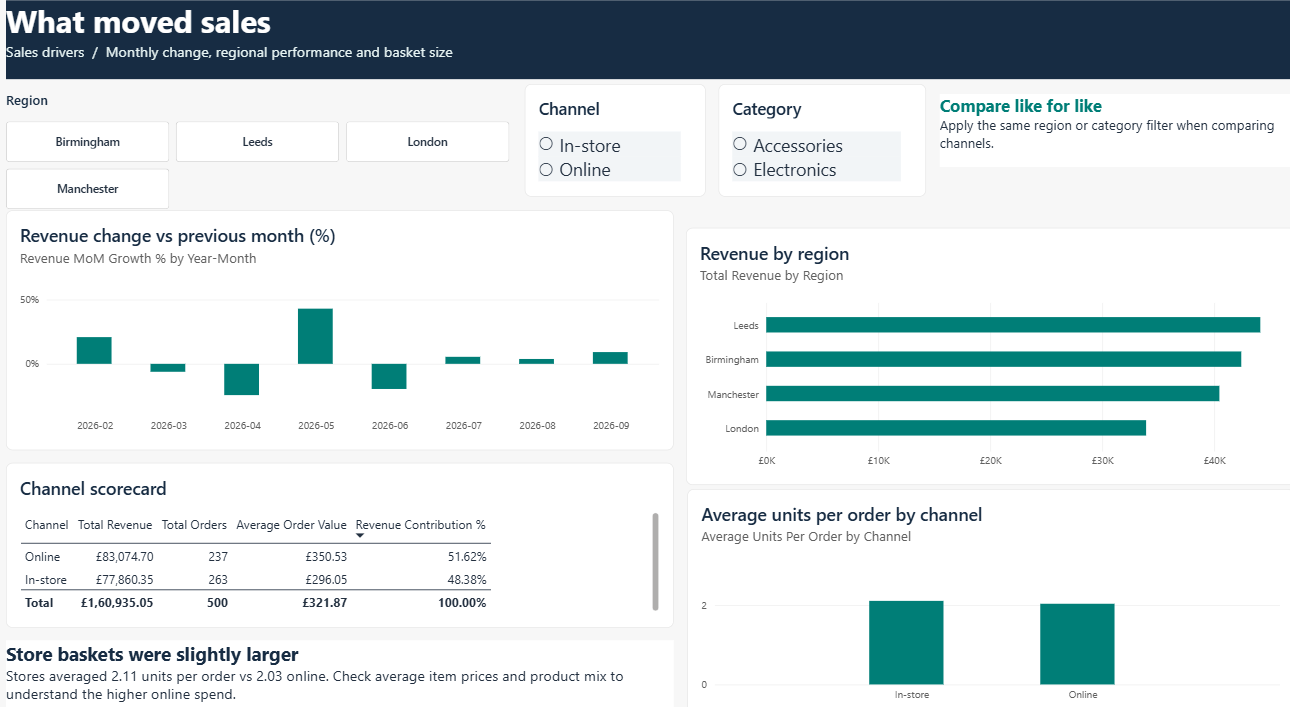

Layout of this report page (visuals, bound fields, positions):
{"tool":"powerbi","page":{"name":"Sales Drivers","canvas":[1600,900],"ordinal":2},"visuals":[{"type":"textbox","box":[24,20,1552,95],"z":0},{"type":"advancedSlicerVisual","fields":{"Values":["Sales Data.Region"]},"box":[24.1,128.2,609.3,144.8],"z":1000},{"type":"listSlicer","fields":{"Values":["Sales Data.Channel"]},"box":[650,120.6,218.7,135.7],"z":2000},{"type":"listSlicer","fields":{"Values":["Sales Data.Category"]},"box":[883.7,120.6,250.3,135.7],"z":3000},{"type":"textbox","box":[1150,132,426,88],"z":4000},{"type":"clusteredColumnChart","title":"Revenue change vs previous month (%)","fields":{"Category":["Date Table.Year-Month"],"Y":["Date Table.Revenue MoM Growth %"]},"box":[24.1,273,805.3,289.5],"z":5000},{"type":"clusteredBarChart","title":"Revenue by region","fields":{"Category":["Sales Data.Region"],"Y":["Sales Data.Total Revenue"]},"box":[844.5,294.1,735.9,310.7],"z":6000},{"type":"tableEx","title":"Channel scorecard","fields":{"Values":["Sales Data.Channel","Sales Data.Total Revenue","Sales Data.Total Orders","Sales Data.Average Order Value","Date Table.Revenue Contribution %"]},"box":[24.1,577.6,805.3,199.1],"z":7000},{"type":"clusteredColumnChart","title":"Average units per order by channel","fields":{"Category":["Sales Data.Channel"],"Y":["Date Table.Average Units Per Order"]},"box":[846,609.3,732,278],"z":8000},{"type":"textbox","box":[24.1,791.7,805.3,96.5],"z":9000}]}

Visuals, with their boxes in screenshot pixels (x1, y1, x2, y2), scaled from the page's 1600x900 canvas onto the 1290x707 screenshot:
textbox: <bbox>19, 16, 1271, 90</bbox>
advancedSlicerVisual - Sales Data.Region: <bbox>19, 101, 511, 214</bbox>
listSlicer - Sales Data.Channel: <bbox>524, 95, 700, 201</bbox>
listSlicer - Sales Data.Category: <bbox>712, 95, 914, 201</bbox>
textbox: <bbox>927, 104, 1271, 173</bbox>
"Revenue change vs previous month (%)" clusteredColumnChart: <bbox>19, 214, 669, 442</bbox>
"Revenue by region" clusteredBarChart: <bbox>681, 231, 1274, 475</bbox>
"Channel scorecard" tableEx: <bbox>19, 454, 669, 610</bbox>
"Average units per order by channel" clusteredColumnChart: <bbox>682, 479, 1272, 697</bbox>
textbox: <bbox>19, 622, 669, 698</bbox>
